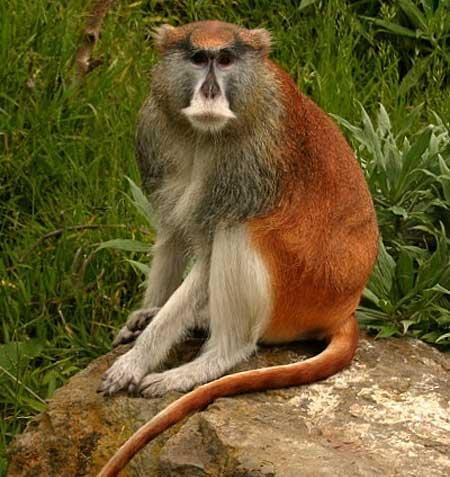monkey: (99, 21, 381, 442)
